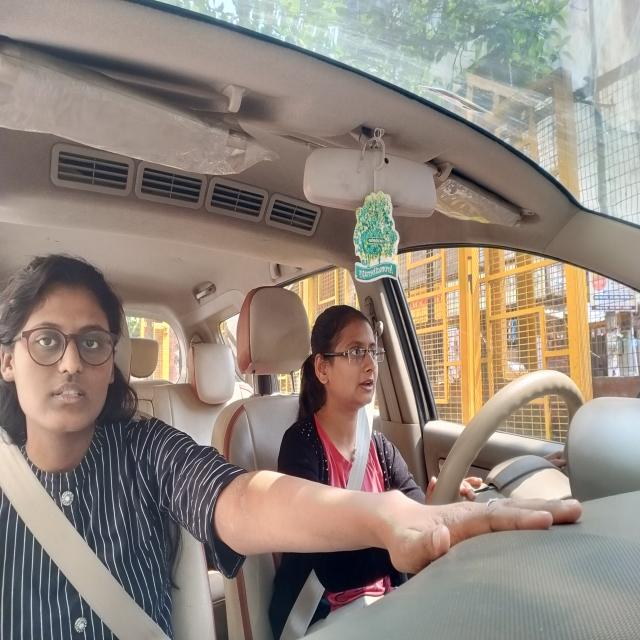person: (0, 250, 135, 452), (308, 302, 383, 427)
